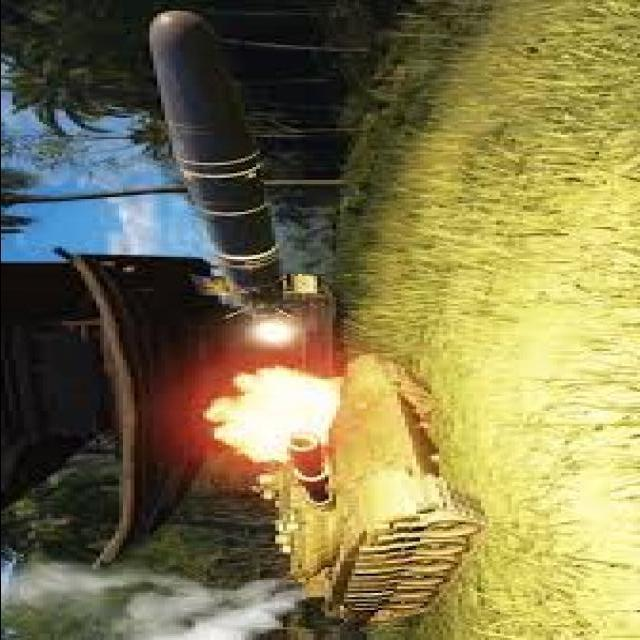missile: (142, 6, 317, 334)
